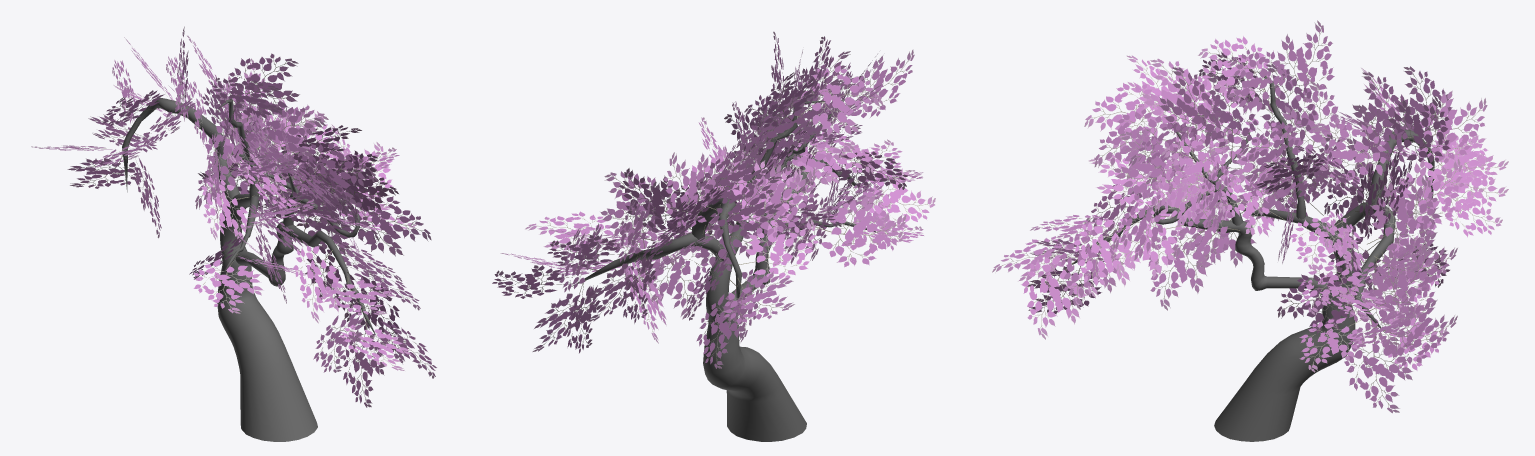
Rendered from SM_Tree_01.FBX.
The picture shows the model from 3 angles, left to right: view 1: azimuth 30°, elevation 25°; view 2: azimuth 150°, elevation 25°; view 3: azimuth 270°, elevation 25°; orthographic projection. The views are drawn at different scales.
Parts seen in each view (by area): view 1: Tree_01; view 2: Tree_01; view 3: Tree_01.
Part boxes in pixels (x1,y1,x2,y2): Tree_01: (31,26,436,441); Tree_01: (492,31,935,441); Tree_01: (992,20,1508,441).
Bounding box in the file's own units: 326 × 356 × 455.
